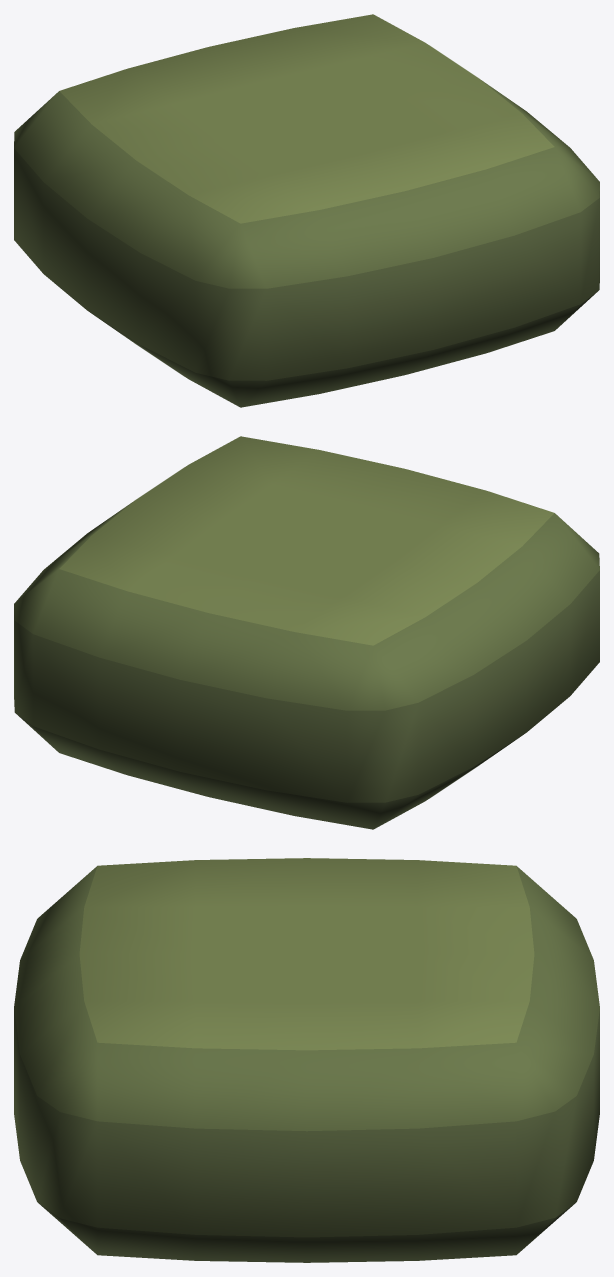
Rendered from grass_top_1x1.fbx.
3 renders of one model, top to bottom at view 1: azimuth 30°, elevation 25°; view 2: azimuth 150°, elevation 25°; view 3: azimuth 270°, elevation 25°, orthographic. The views are drawn at different scales.
Visible parts, largest first — view 1: grass_top_1x1; view 2: grass_top_1x1; view 3: grass_top_1x1.
Part boxes in pixels (x1=…): grass_top_1x1: x1=14, y1=14, x2=599, y2=407; grass_top_1x1: x1=14, y1=436, x2=599, y2=829; grass_top_1x1: x1=14, y1=858, x2=599, y2=1262.
Size of the model in its own units: 137 by 55 by 137.
